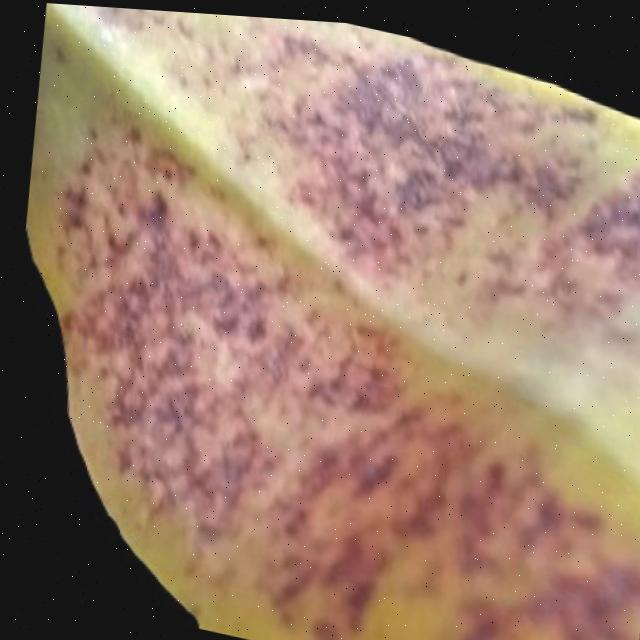mite: (302, 609, 337, 640), (250, 224, 277, 250)
spots: (15, 2, 640, 640)
